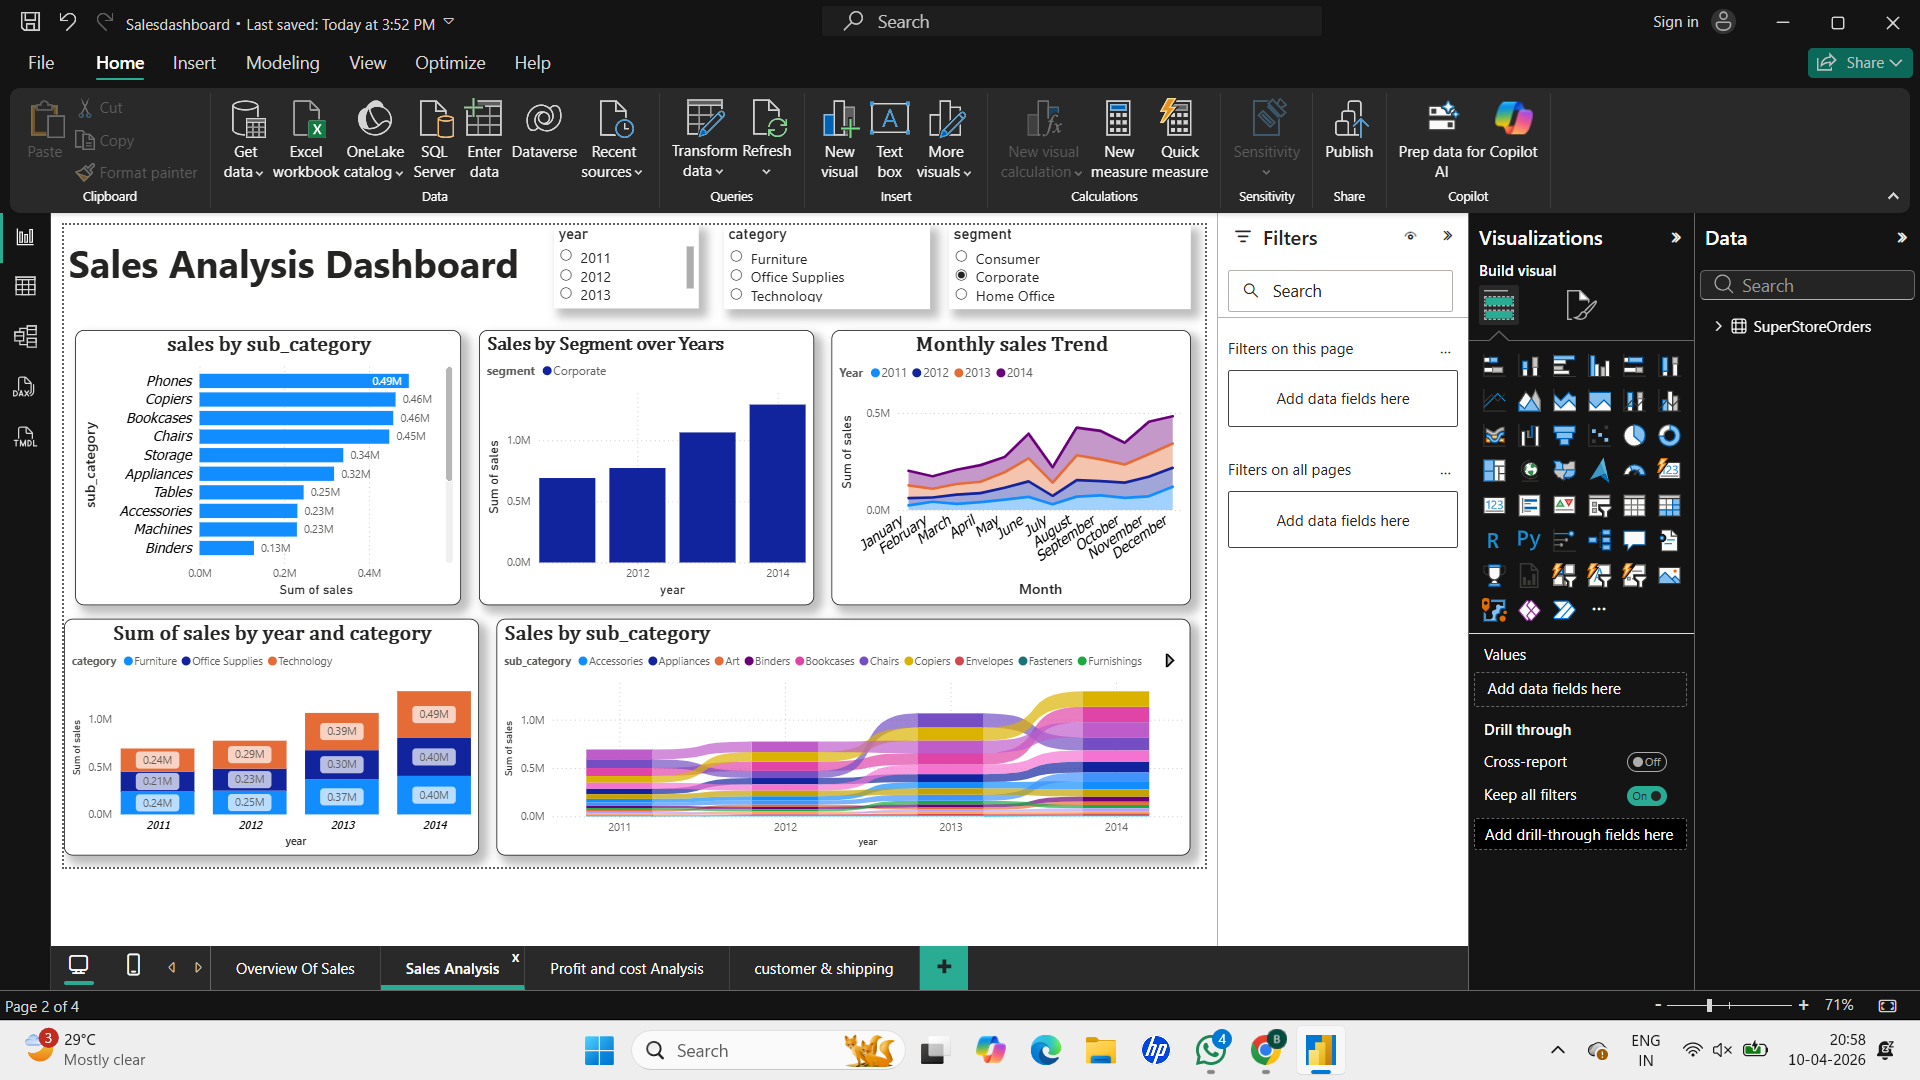

What the dashboard file says about the page in this screenshot:
{"tool":"powerbi","page":{"name":"Sales Analysis","canvas":[1280,720],"ordinal":1},"visuals":[{"type":"columnChart","title":"Sales by Segment over Years","fields":{"Category":["SuperStoreOrders.year"],"Y":["Sum(SuperStoreOrders.sales)"],"Series":["SuperStoreOrders.segment"]},"box":[465.7,117.1,375.7,308.6],"z":1000},{"type":"ribbonChart","title":"Sales  by sub_category","fields":{"Category":["SuperStoreOrders.year"],"Y":["Sum(SuperStoreOrders.sales)"],"Series":["SuperStoreOrders.sub_category"]},"box":[485.7,441.4,778.6,265.7],"z":2000},{"type":"textbox","box":[0,8.4,535.7,77.1],"z":3000},{"type":"clusteredBarChart","title":"sales by sub_category","fields":{"Category":["SuperStoreOrders.sub_category"],"Y":["Sum(SuperStoreOrders.sales)"]},"box":[12.9,117.1,432.9,308.6],"z":4000},{"type":"stackedAreaChart","title":"Monthly sales Trend","fields":{"Y":["Sum(SuperStoreOrders.sales)"],"Category":["SuperStoreOrders.order_date.Variation.Date Hierarchy.Month"],"Series":["SuperStoreOrders.order_date.Variation.Date Hierarchy.Year"]},"box":[861.4,117.1,402.9,308.6],"z":5000},{"type":"lineStackedColumnComboChart","fields":{"Category":["SuperStoreOrders.year"],"Y":["Sum(SuperStoreOrders.sales)"],"Series":["SuperStoreOrders.category"]},"box":[0,441.4,465.7,265.7],"z":6000},{"type":"listSlicer","fields":{"Values":["SuperStoreOrders.segment"]},"box":[992.9,0,271.4,94.3],"z":7000},{"type":"listSlicer","fields":{"Values":["SuperStoreOrders.year"]},"box":[549.7,0,162.7,94],"z":8000},{"type":"listSlicer","fields":{"Values":["SuperStoreOrders.category"]},"box":[740,0,231.4,94.3],"z":9000}]}

Visuals, with their boxes on the page's 1280x720 design canvas (x1, y1, x2, y2). These are canvas units, not pixel positions in the 1920x1080 screenshot, which may show the page scaled, cropped or inside an application window:
"Sales by Segment over Years" columnChart: 466,117,841,426
"Sales  by sub_category" ribbonChart: 486,441,1264,707
textbox: 0,8,536,86
"sales by sub_category" clusteredBarChart: 13,117,446,426
"Monthly sales Trend" stackedAreaChart: 861,117,1264,426
lineStackedColumnComboChart - SuperStoreOrders.year x Sum(SuperStoreOrders.sales): 0,441,466,707
listSlicer - SuperStoreOrders.segment: 993,0,1264,94
listSlicer - SuperStoreOrders.year: 550,0,712,94
listSlicer - SuperStoreOrders.category: 740,0,971,94
